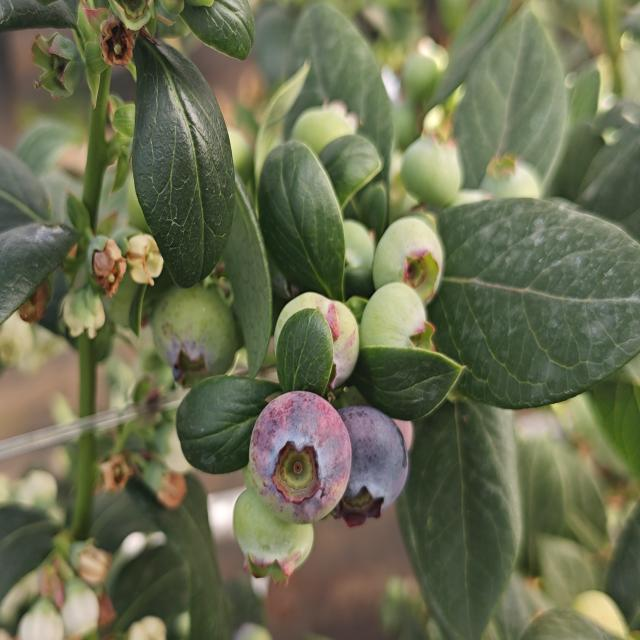ripe: (332, 402, 411, 528)
